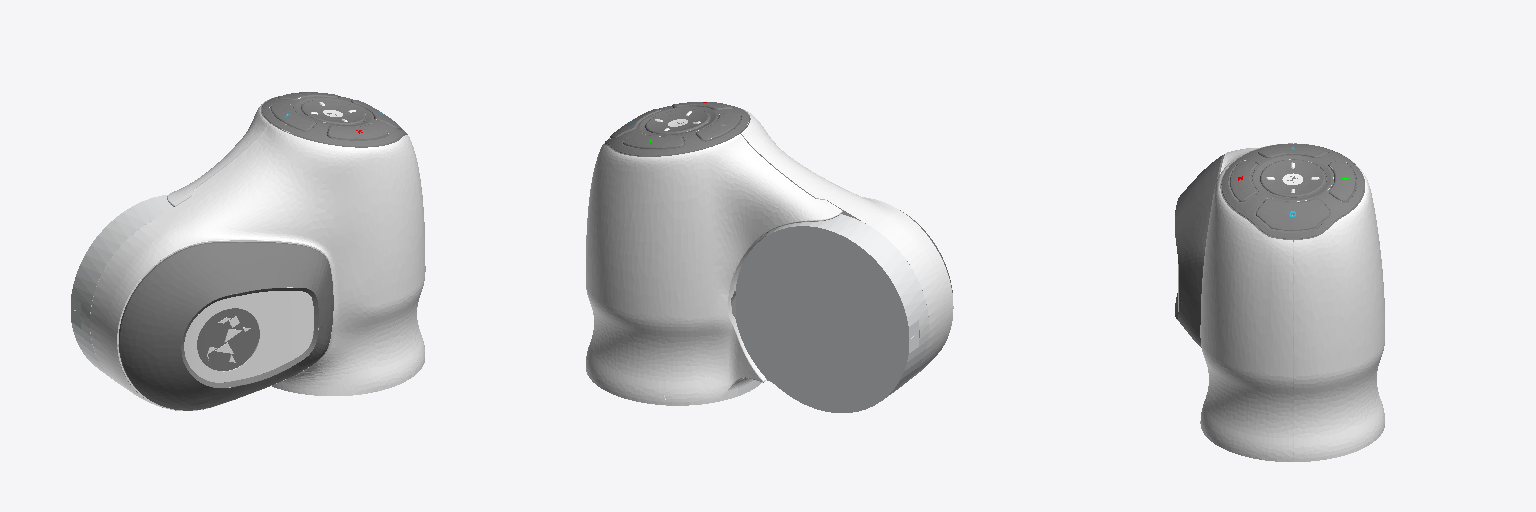
The picture shows the model from 3 angles: view 1: azimuth 30°, elevation 25°; view 2: azimuth 150°, elevation 25°; view 3: azimuth 270°, elevation 25°; orthographic projection.
Parts seen in each view (by area): view 1: node0; view 2: node0; view 3: node0.
Boxes of the visible parts, x1=… form: node0: x1=71, y1=92, x2=425, y2=410; node0: x1=586, y1=102, x2=953, y2=412; node0: x1=1175, y1=143, x2=1384, y2=461.
Bounding box in the file's own units: 0.1799 × 0.1329 × 0.1002.
Materials: 17 (1 with a texture image).